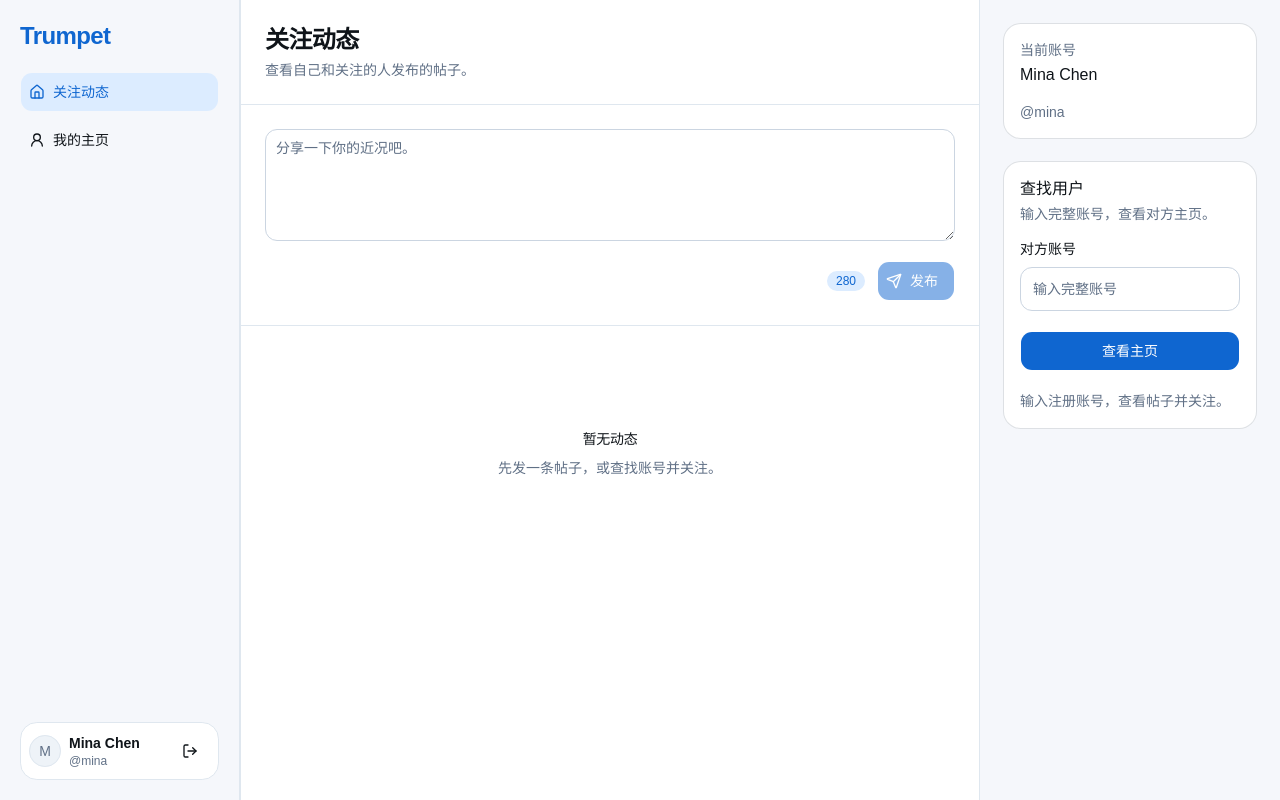
it: async interaction safety › locks a post submission until the server responds
Type "Pending post" into the text box named "帖子内容" at (610, 185), box top-left (265, 129), bottom-right (955, 241)
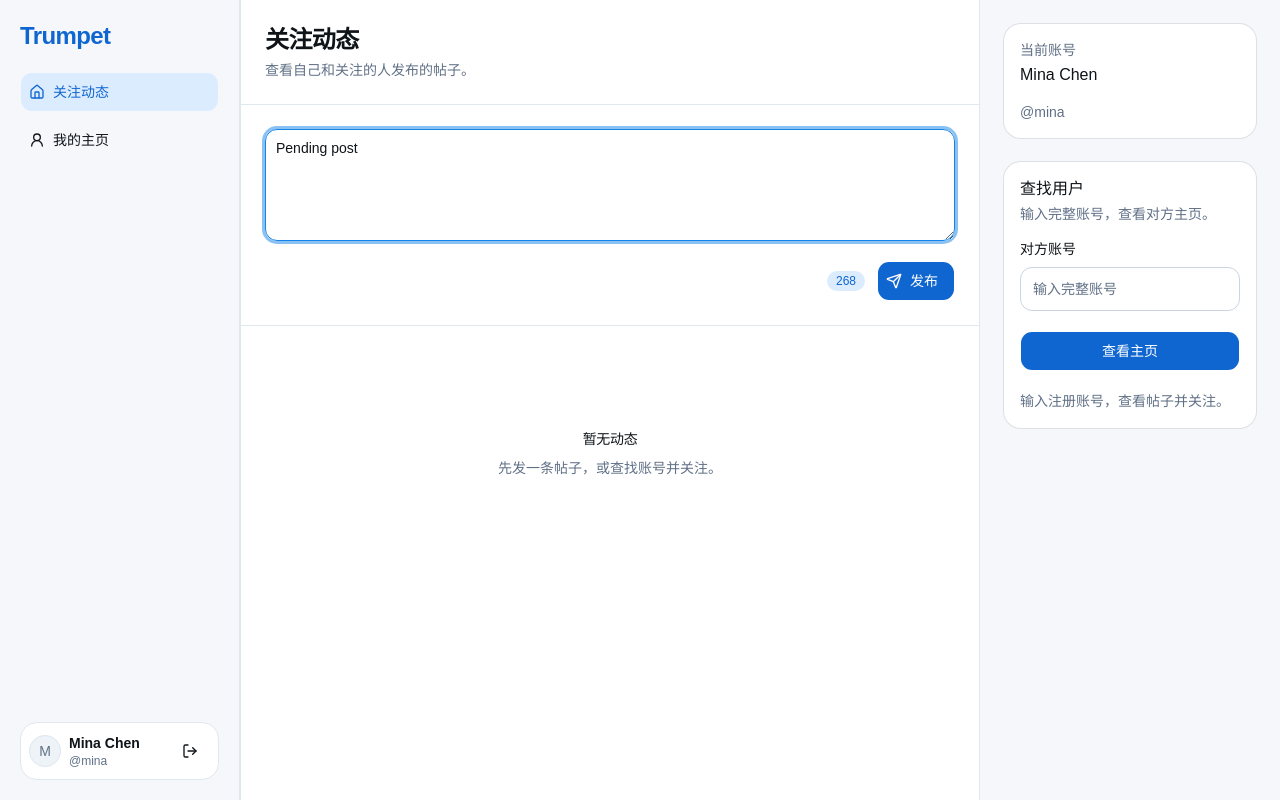
Click the button "发布" at (916, 281), box top-left (877, 261), bottom-right (955, 301)
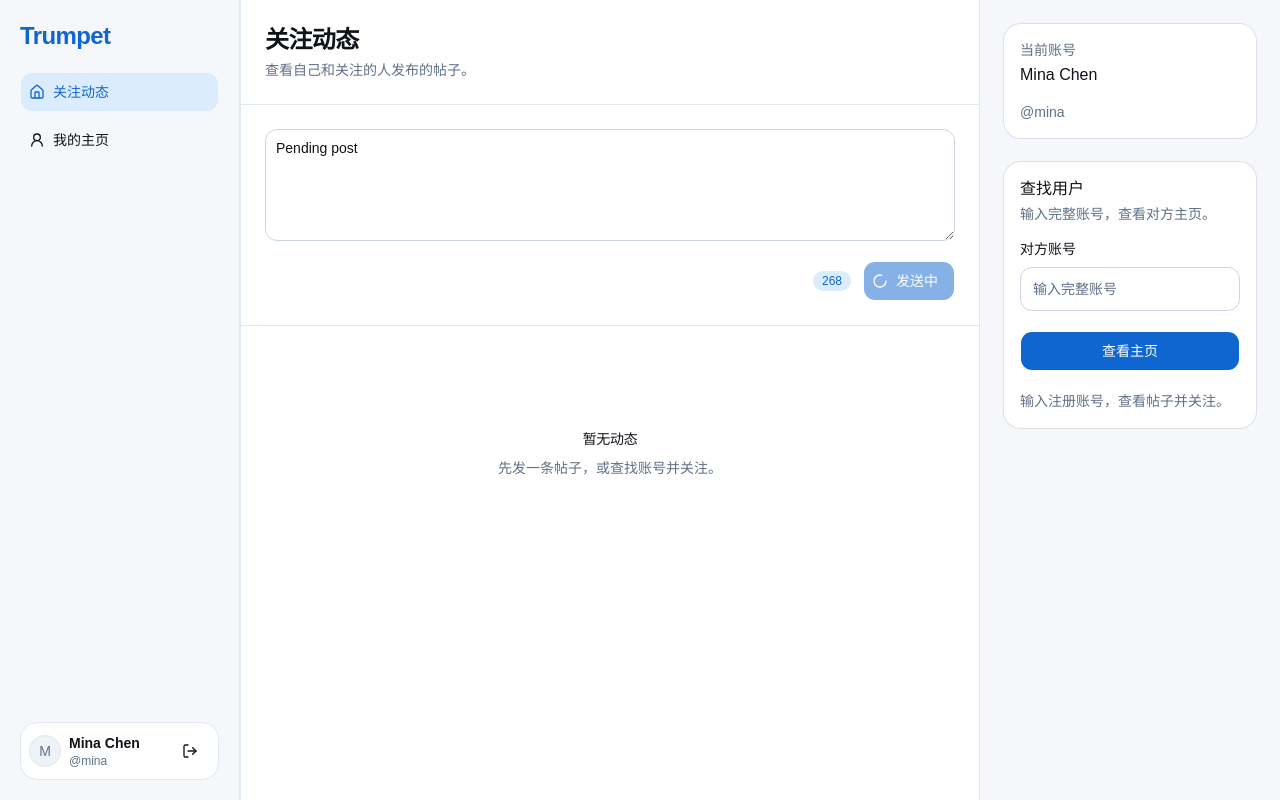
Result: the button "发送中" is disabled
Click the button "发送中" at (909, 281), box top-left (863, 261), bottom-right (955, 301)
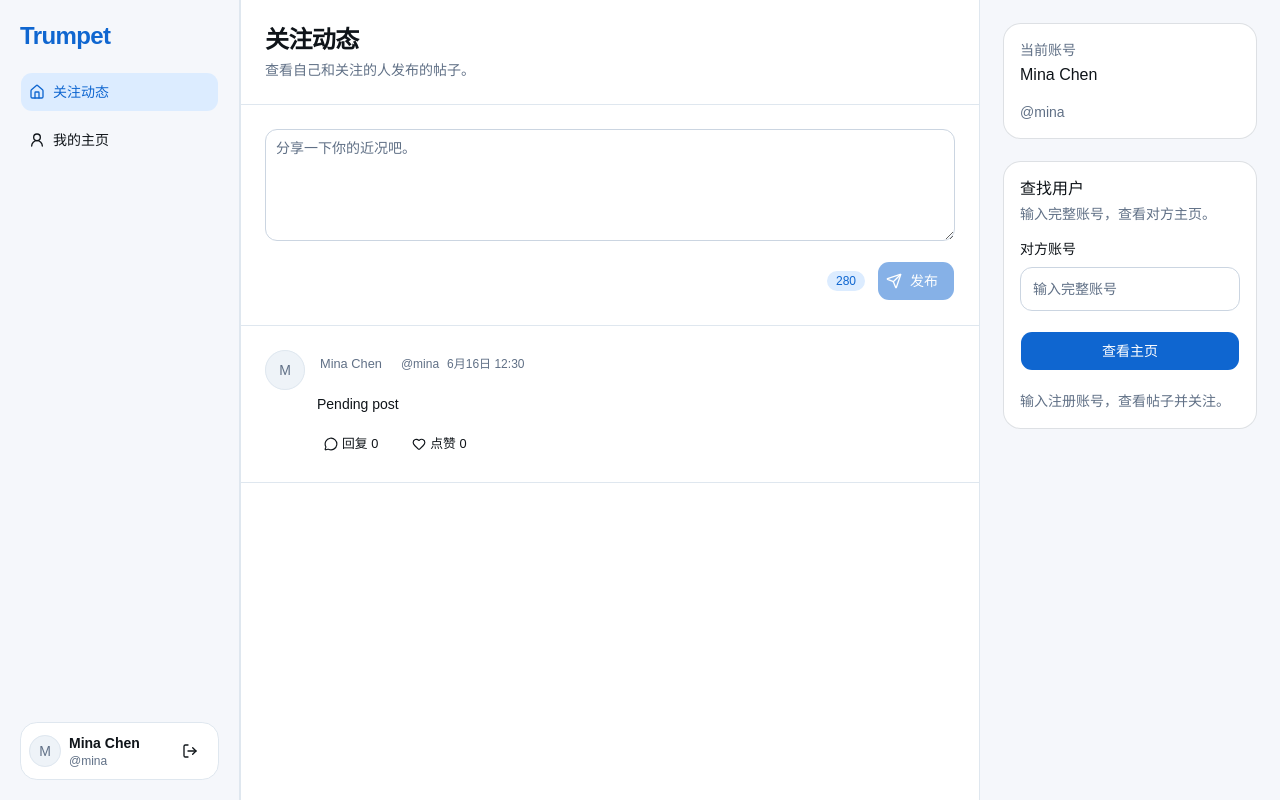
Result: the text "Pending post" is shown at top-left (317, 396), bottom-right (399, 412)
